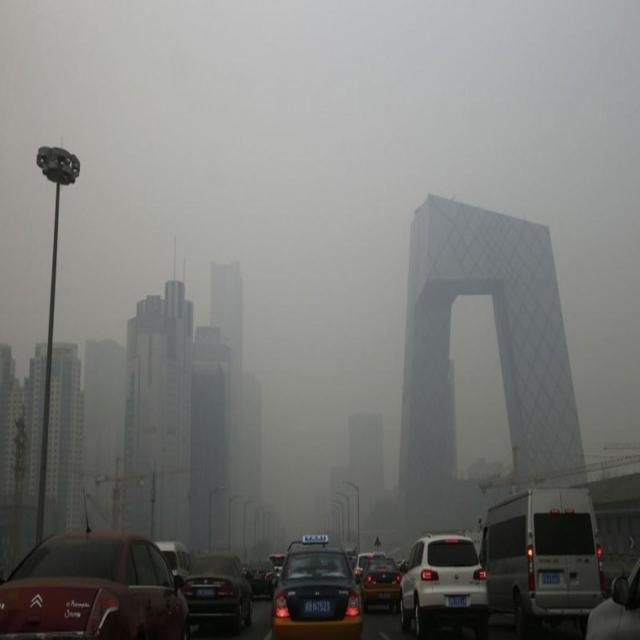Car: (0, 528, 189, 640), (398, 532, 488, 636), (270, 540, 362, 640), (180, 551, 253, 631), (584, 552, 640, 640), (357, 554, 402, 613), (155, 540, 197, 583), (245, 558, 279, 599), (353, 550, 384, 576), (268, 553, 287, 577)
Van: (476, 484, 606, 634)
